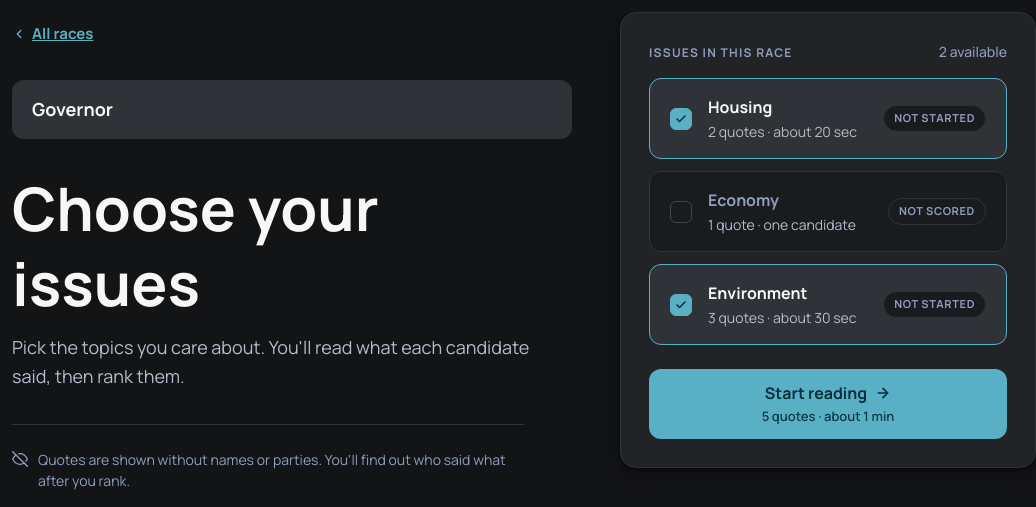
Test case: IssueSelection › disables the CTA when no scorable topics are selected
Step 1. Click the button "Housing 2 quotes · about 20 sec Not started" → [740, 107], box [649,78,1007,159]
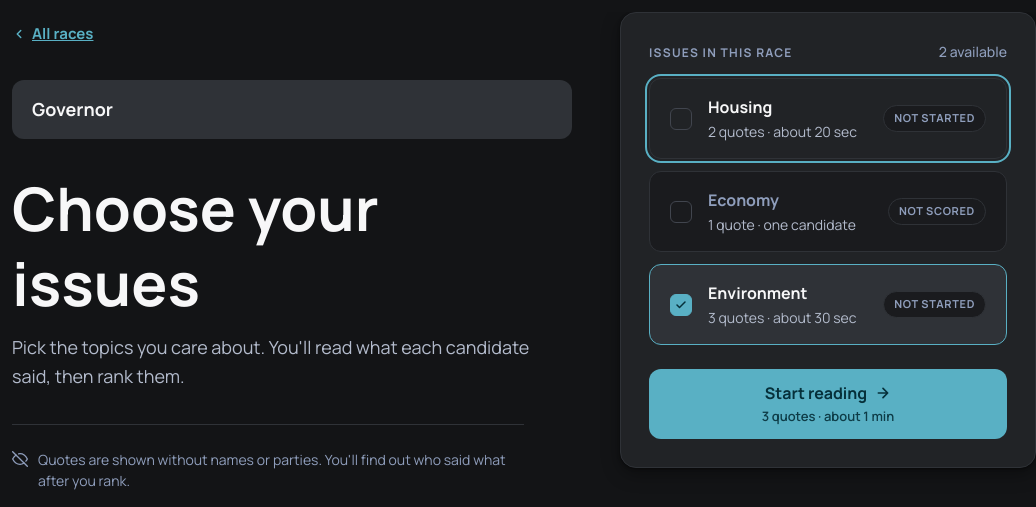
Step 2. Click the button "Environment 3 quotes · about 30 sec Not started" → [758, 293], box [649,264,1007,345]
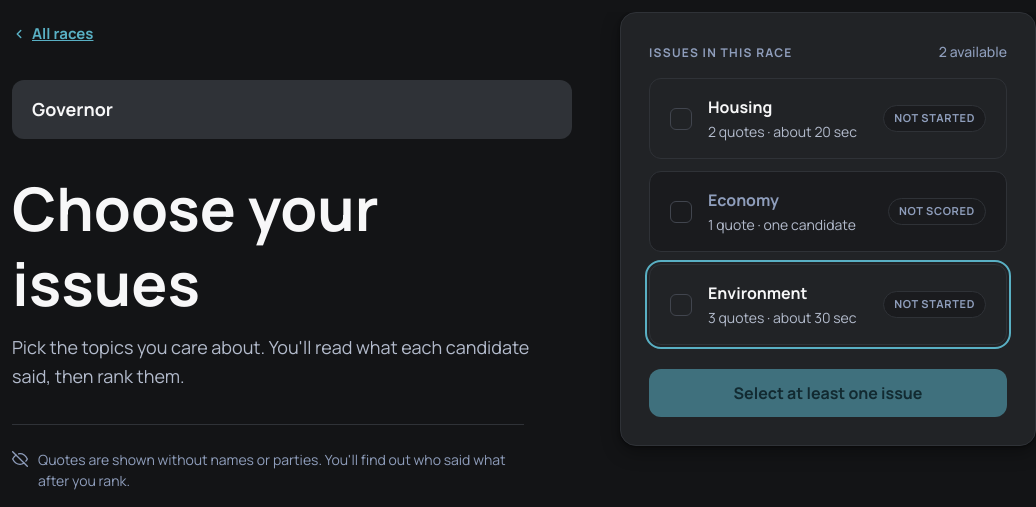
Expected: the button "Select at least one issue" is disabled, [649,369,1007,417]
